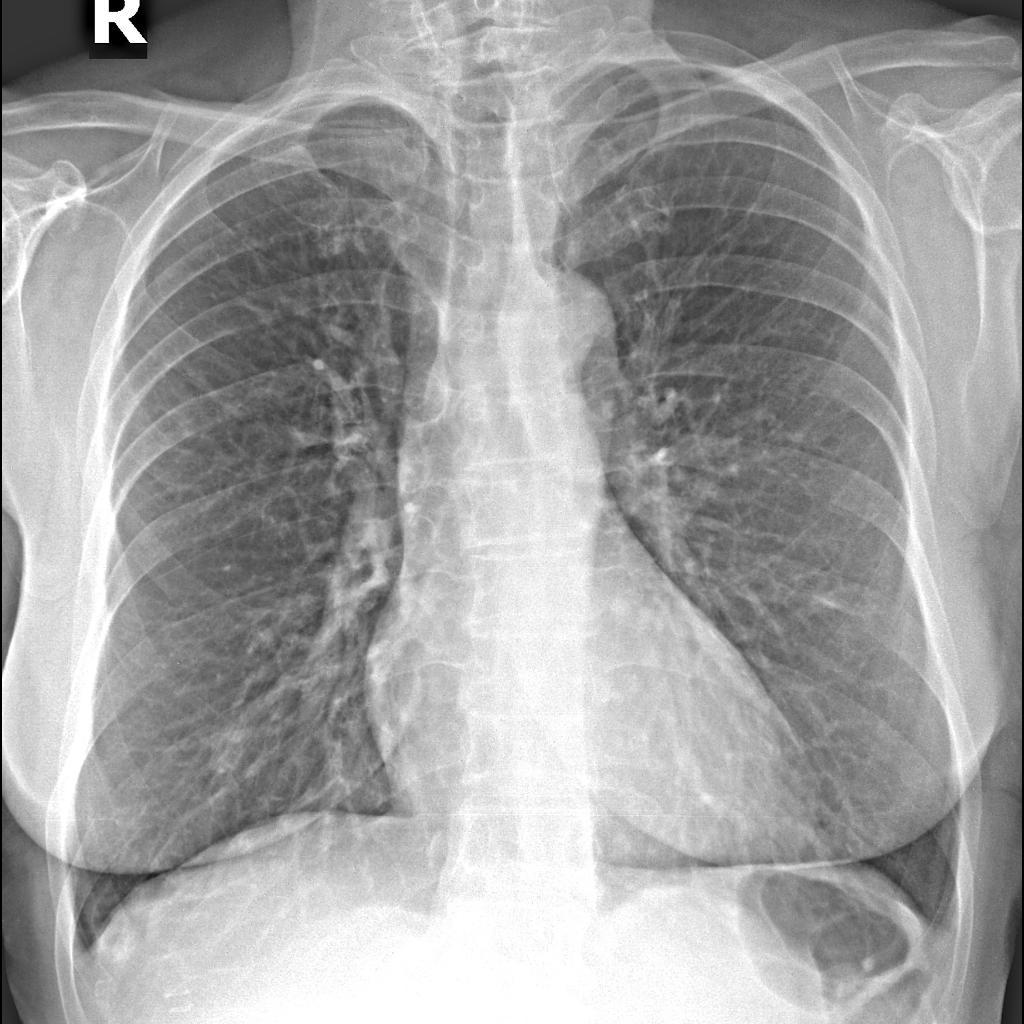Nodule: (194, 719, 258, 796)
